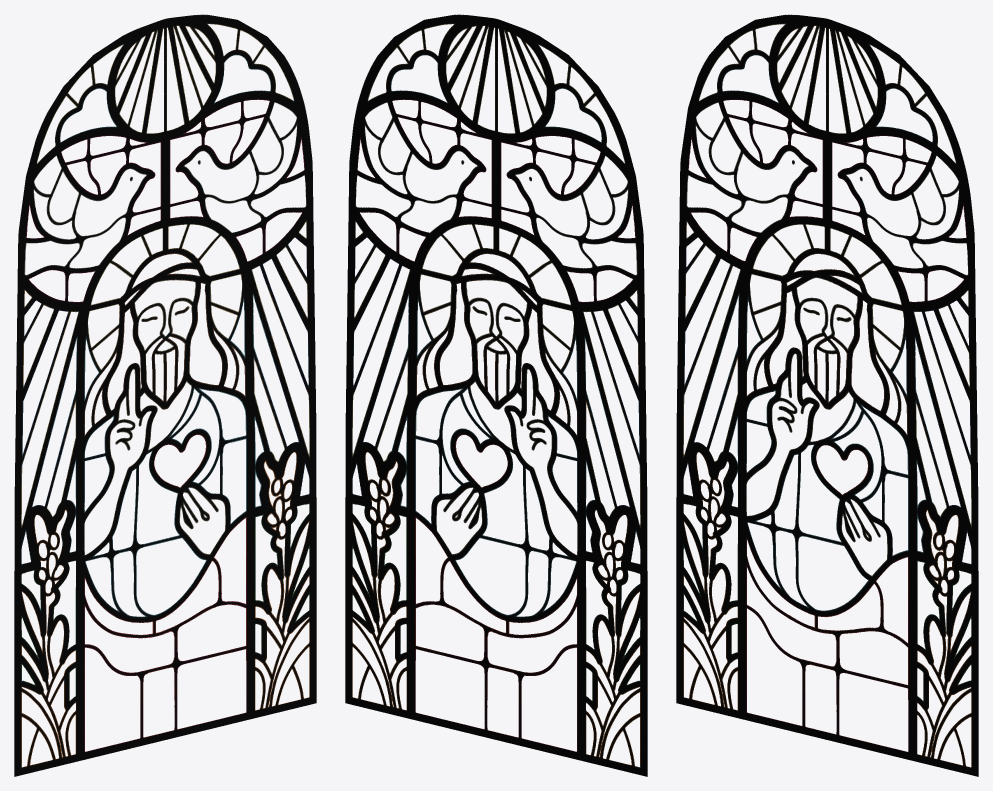
File: SM_WindowPane_Jesus.fbx
The picture shows the model from 3 angles, left to right: view 1: azimuth 30°, elevation 25°; view 2: azimuth 150°, elevation 25°; view 3: azimuth 330°, elevation 25°; orthographic projection.
Parts seen in each view (by area): view 1: SM_WindowPane_Jesus; view 2: SM_WindowPane_Jesus; view 3: SM_WindowPane_Jesus.
Boxes of the visible parts, left/top/right/bottom form: SM_WindowPane_Jesus: left=14, top=14, right=316, bottom=776; SM_WindowPane_Jesus: left=345, top=14, right=647, bottom=776; SM_WindowPane_Jesus: left=676, top=14, right=978, bottom=776.
Size of the model in its own units: 102 by 233 by 5.51e-05.
